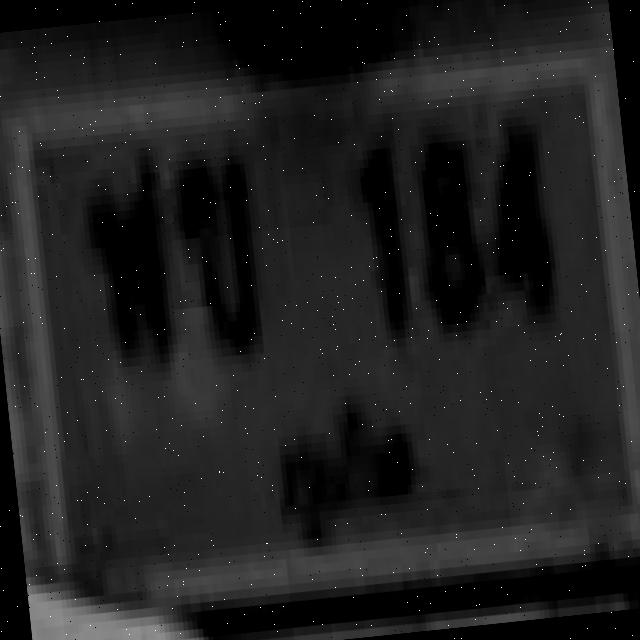1: (345, 120, 429, 368)
11KhorKhai: (166, 123, 282, 389)
4: (478, 105, 571, 349)
40ForFun: (65, 138, 197, 392)
8: (410, 114, 498, 365)
Phuket: (262, 380, 438, 568)
